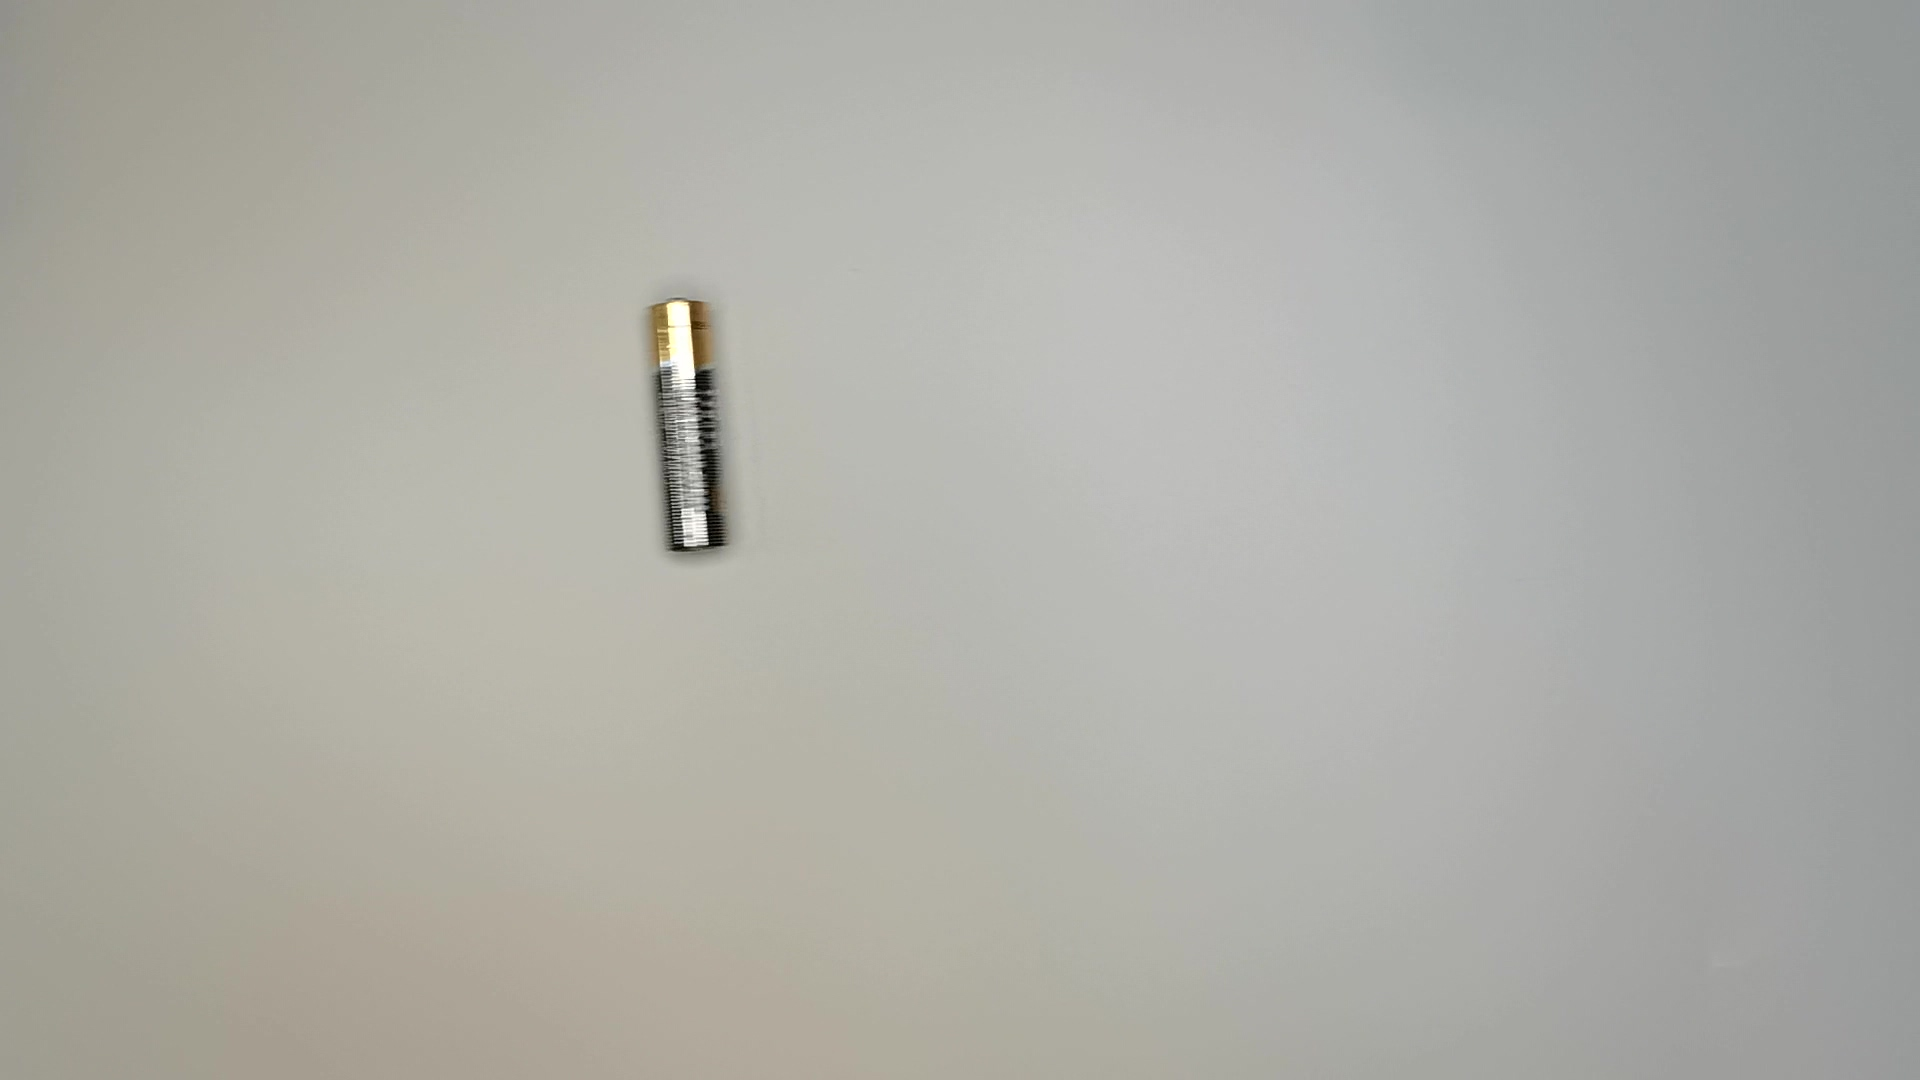battery: (637, 289, 741, 564)
